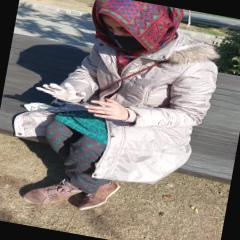gloved: (34, 78, 90, 106)
not-gloved: (84, 94, 132, 123)
